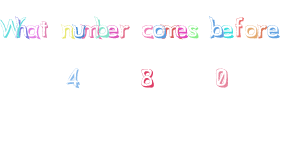0: (214, 67, 230, 88)
4: (65, 67, 81, 88)
8: (139, 67, 156, 88)
W: (1, 16, 19, 39)
a: (26, 24, 41, 39)
b: (208, 13, 224, 39), (95, 16, 109, 38)
c: (140, 23, 154, 40)
e: (221, 23, 235, 40), (267, 23, 281, 40), (175, 23, 188, 39), (106, 23, 119, 38)
f: (234, 15, 244, 38)
h: (15, 16, 27, 39)
m: (82, 21, 99, 38), (162, 23, 179, 40)
n: (59, 23, 74, 39)
o: (153, 23, 166, 40), (244, 23, 257, 38)
r: (118, 23, 131, 40), (257, 23, 267, 39)
s: (187, 23, 199, 40)
t: (40, 20, 48, 38)
u: (72, 21, 85, 39)
